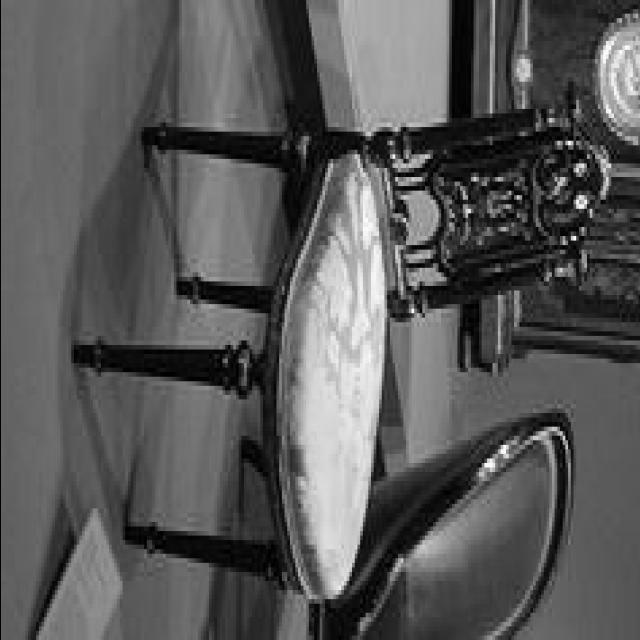chair: (72, 94, 612, 606)
